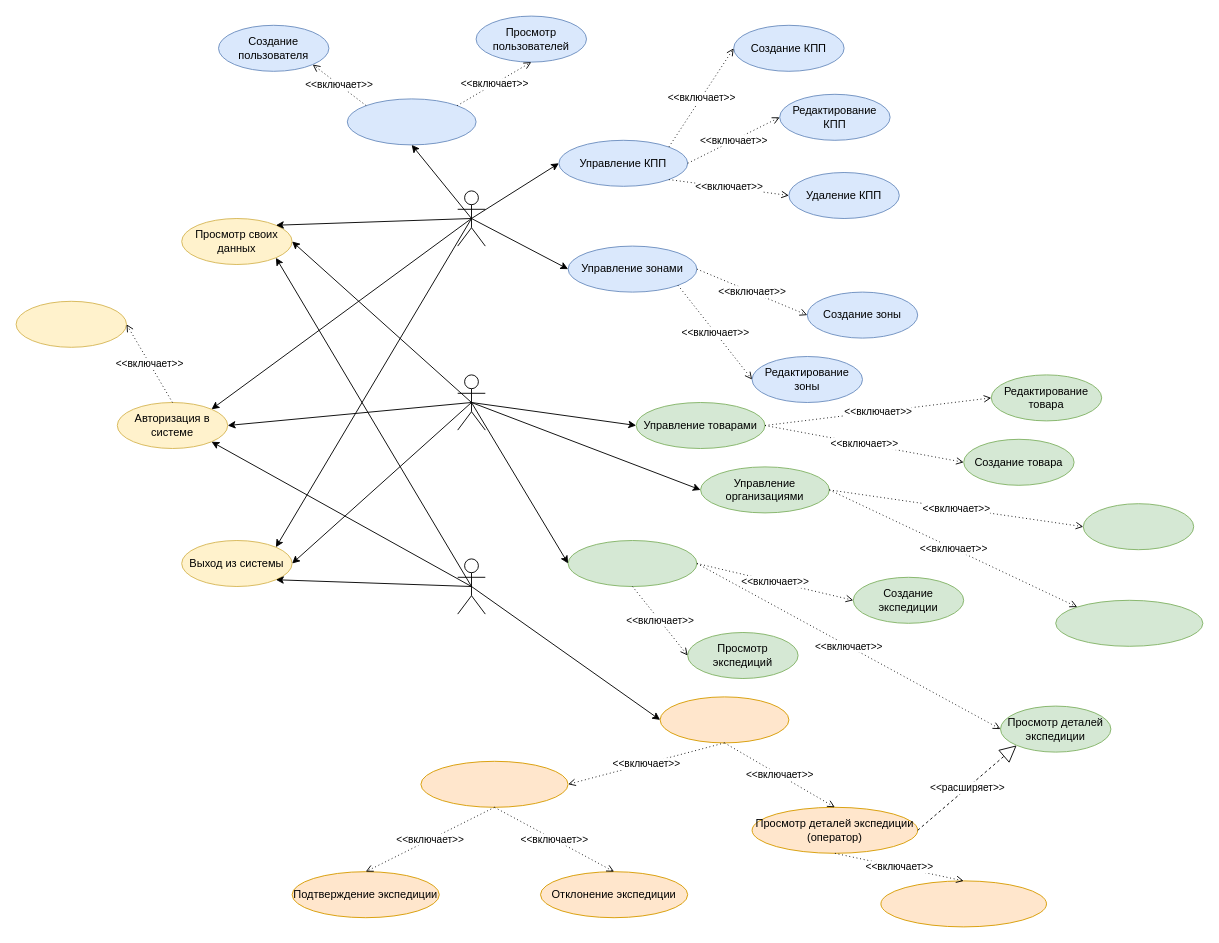
The diagram is 1219 pixels wide and 943 high, and some of its shapes have lost their labels. The shapes that lost their labels are listed below. From the top down, each one's centre as x and y in pixels, then its label:
[411,121]: Управление пользователями
[471,218]: Администратор
[70,323]: Обновление токена
[471,402]: Логист
[1138,526]: Создание организации
[632,563]: Управление экспедициями
[471,586]: Оператор КПП
[1129,622]: Редактирование организации
[724,719]: Работа с экспедициями
[494,783]: Просмотр экспедиций для КПП
[963,903]: Просмотр истории подтверждений
